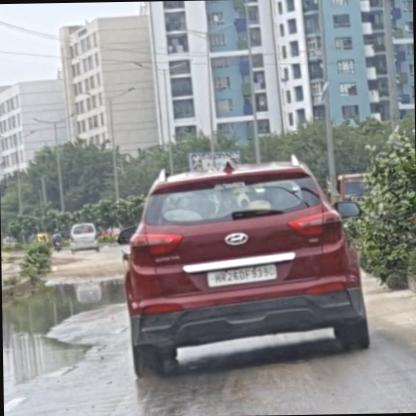car: (116, 155, 370, 376), (70, 222, 100, 252)
motorcycle: (51, 228, 64, 251)
